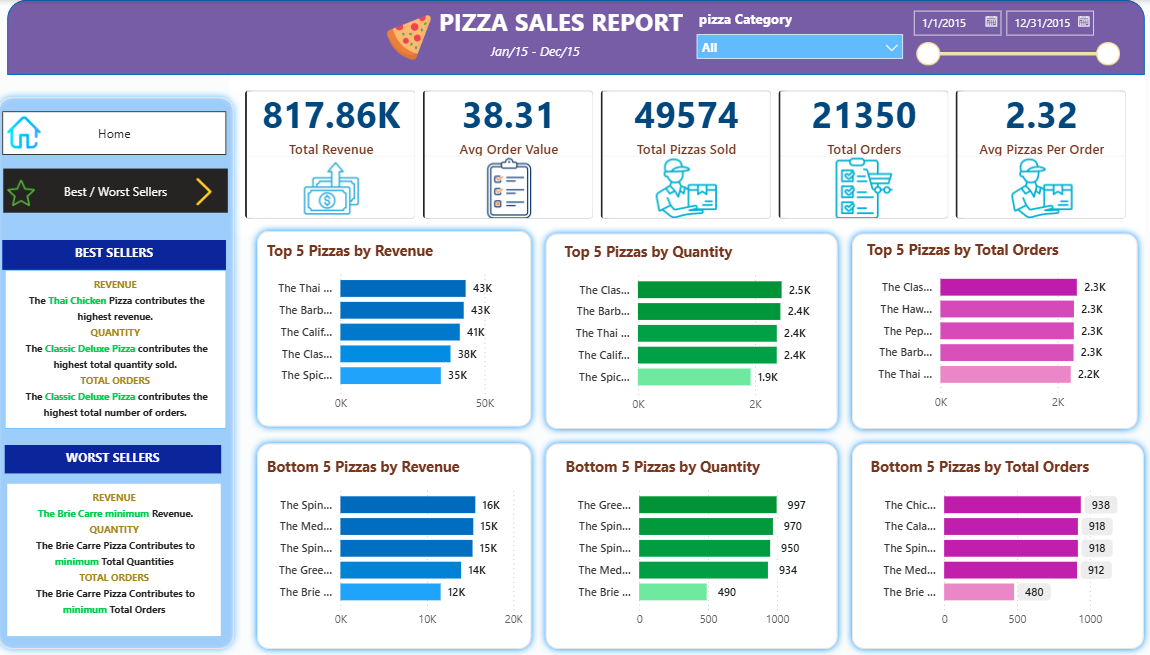

The dashboard page shown, as its layout file describes it:
{"tool":"powerbi","page":{"name":"Best / Worst Sellers","canvas":[1280,720],"ordinal":1},"visuals":[{"type":"cardVisual","fields":{"Data":["pizza_sales.Total Revenue","pizza_sales.Avg Order Value","pizza_sales.Total Pizzas Sold","pizza_sales.Total Orders","pizza_sales.Avg Pizzas Per Order"]},"box":[262.1,82.3,1004.5,175.6],"z":0},{"type":"shape","box":[17.8,0,1248.7,82.3],"z":1000},{"type":"textbox","box":[473.4,0,304.6,45.3],"z":2000},{"type":"textbox","box":[543.4,41.2,135.8,31.6],"z":3000},{"type":"image","box":[433.6,12.3,50.8,57.6],"z":4000},{"type":"shape","box":[284,245.6,317,230.5],"z":5000},{"type":"shape","box":[0,98.8,274.4,621.6],"z":6000},{"type":"textbox","box":[15.1,296.4,242.9,174.3],"z":7000},{"type":"textbox","box":[12.3,263.5,245.6,32.9],"z":8000},{"type":"textbox","box":[17.8,531,234.6,167.4],"z":9000},{"type":"textbox","box":[15.1,488.5,237.4,31.6],"z":10000},{"type":"slicer","fields":{"Values":["pizza_sales.pizza_category"]},"box":[764.3,5.5,247,71.4],"z":11000},{"type":"slicer","fields":{"Values":["pizza_sales.order_date"]},"box":[1000.3,1.4,247,81],"z":12000},{"type":"shape","box":[601,248.4,336.2,230.5],"z":13000},{"type":"shape","box":[937.2,248.4,329.3,230.5],"z":14000},{"type":"shape","box":[284,478.9,317,241.5],"z":15000},{"type":"shape","box":[601,478.9,336.2,241.5],"z":16000},{"type":"shape","box":[937.2,478.9,336.2,241.5],"z":17000},{"type":"barChart","title":"Top 5 Pizzas by Revenue","fields":{"Category":["pizza_sales.pizza_name"],"Y":["pizza_sales.Total Revenue"]},"box":[297.8,263.5,290.9,197.6],"z":18000},{"type":"barChart","title":"Bottom 5 Pizzas by Revenue","fields":{"Category":["pizza_sales.pizza_name"],"Y":["pizza_sales.Total Revenue"]},"box":[297.8,500.9,290.9,197.6],"z":19000},{"type":"barChart","title":"Top 5 Pizzas by Quantity","fields":{"Category":["pizza_sales.pizza_name"],"Y":["pizza_sales.Total Pizzas Sold"]},"box":[624.4,264.8,290.9,197.6],"z":20000},{"type":"barChart","title":"Bottom 5 Pizzas by Quantity","fields":{"Category":["pizza_sales.pizza_name"],"Y":["pizza_sales.Total Pizzas Sold"]},"box":[625.7,500.9,290.9,197.6],"z":21000},{"type":"barChart","title":"Top 5 Pizzas by Total Orders","fields":{"Category":["pizza_sales.pizza_name"],"Y":["pizza_sales.Total Orders"]},"box":[956.4,262.1,290.9,197.6],"z":22000},{"type":"barChart","title":"Bottom 5 Pizzas by Total Orders","fields":{"Category":["pizza_sales.pizza_name"],"Y":["pizza_sales.Total Orders"]},"box":[960.6,500.9,290.9,197.6],"z":23000},{"type":"pageNavigator","box":[12.3,122.1,247,48],"z":24000},{"type":"pageNavigator","box":[13.7,185.2,247,48],"z":24001},{"type":"image","box":[215.4,194.9,37,31.6],"z":24002},{"type":"image","box":[17.8,189.4,30.2,45.3],"z":24003},{"type":"image","box":[17.8,122.1,37,46.7],"z":24004}]}

Visuals, with their boxes in screenshot pixels (x1, y1, x2, y2), scaled from the page's 1280x720 canvas onto the 1150x655 screenshot:
cardVisual - pizza_sales.Total Revenue x pizza_sales.Avg Order Value: (235,75,1138,235)
shape: (16,0,1138,75)
textbox: (425,0,699,41)
textbox: (488,37,610,66)
image: (390,11,435,64)
shape: (255,223,540,433)
shape: (0,90,247,654)
textbox: (14,270,232,428)
textbox: (11,240,232,270)
textbox: (16,483,227,635)
textbox: (14,444,227,473)
slicer - pizza_sales.pizza_category: (687,5,909,70)
slicer - pizza_sales.order_date: (899,1,1121,75)
shape: (540,226,842,436)
shape: (842,226,1138,436)
shape: (255,436,540,654)
shape: (540,436,842,654)
shape: (842,436,1144,654)
"Top 5 Pizzas by Revenue" barChart: (268,240,529,419)
"Bottom 5 Pizzas by Revenue" barChart: (268,456,529,635)
"Top 5 Pizzas by Quantity" barChart: (561,241,822,421)
"Bottom 5 Pizzas by Quantity" barChart: (562,456,824,635)
"Top 5 Pizzas by Total Orders" barChart: (859,238,1121,418)
"Bottom 5 Pizzas by Total Orders" barChart: (863,456,1124,635)
pageNavigator: (11,111,233,155)
pageNavigator: (12,168,234,212)
image: (194,177,227,206)
image: (16,172,43,214)
image: (16,111,49,154)
